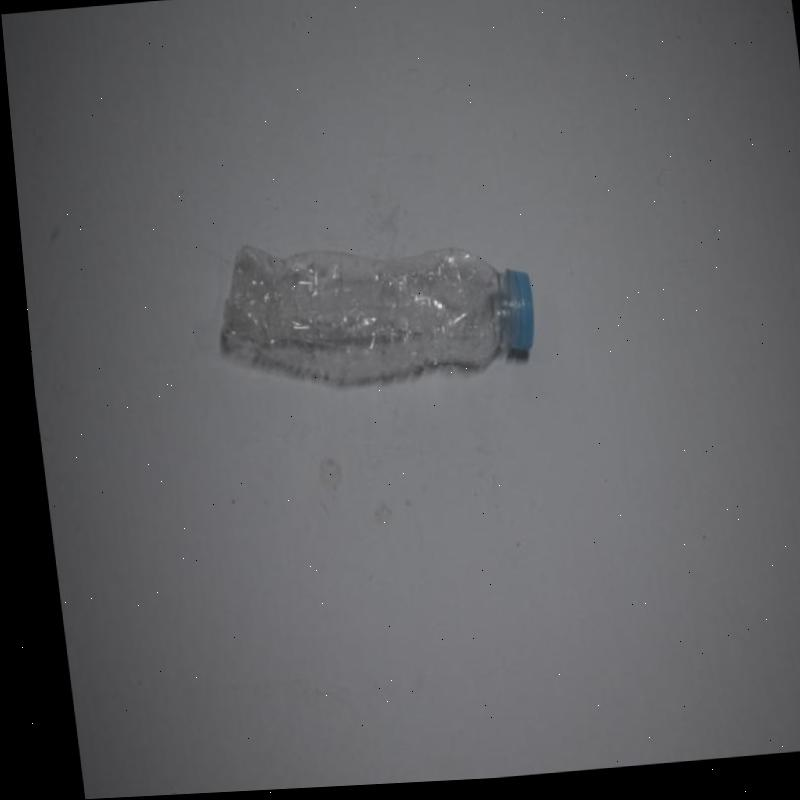botella: (199, 220, 535, 406)
